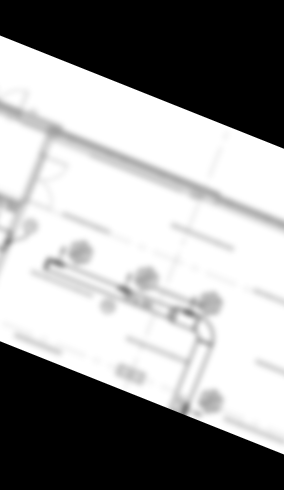double door: (25, 152, 72, 214), (0, 70, 32, 118)
